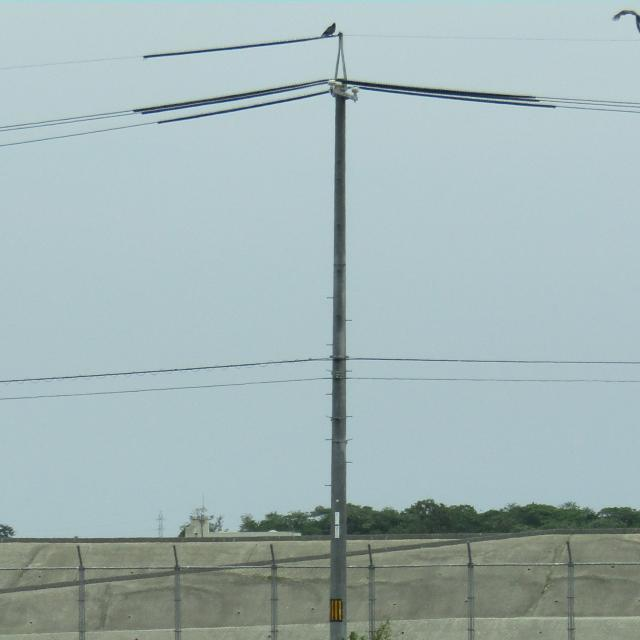pole: (295, 14, 387, 640)
